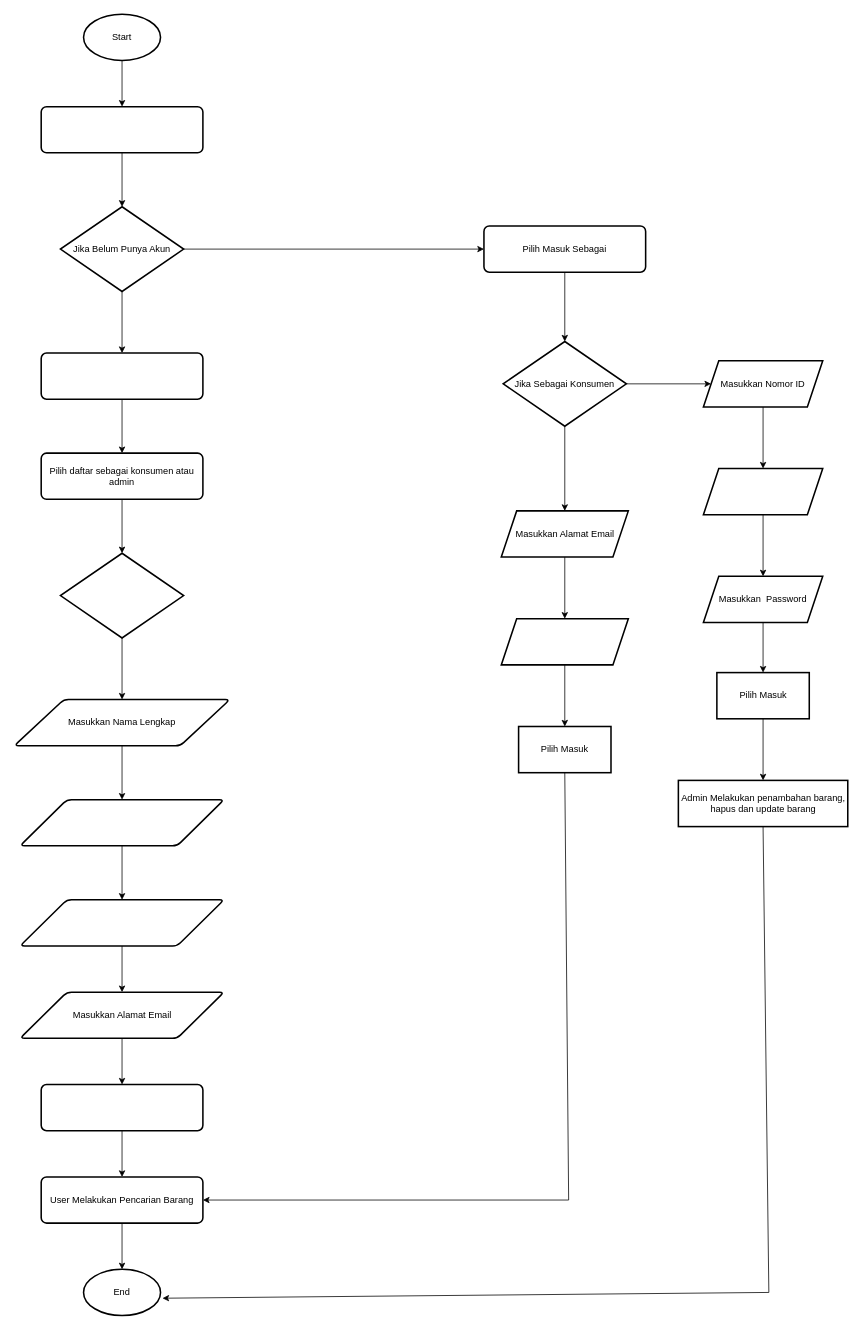
Image size: 862x1329. Some labels were removed from this diagram. The centre of each missing label's shape, as x and y in pixels:
"Akun Telah Terdaftar" belongs at [121,1107].
"Jika mendaftar sebagai konsumen" belongs at [121,595].
"Login" belongs at [121,129].
"Masukkan Alamat Tempat Tinggal" belongs at [121,822].
"Masukkan email" belongs at [762,491].
"Masukkan No. Telp/HP" belongs at [121,922].
"Masukkan Pasword" belongs at [564,641].
"Pilih daftar pada belum punya akun" belongs at [121,376].
